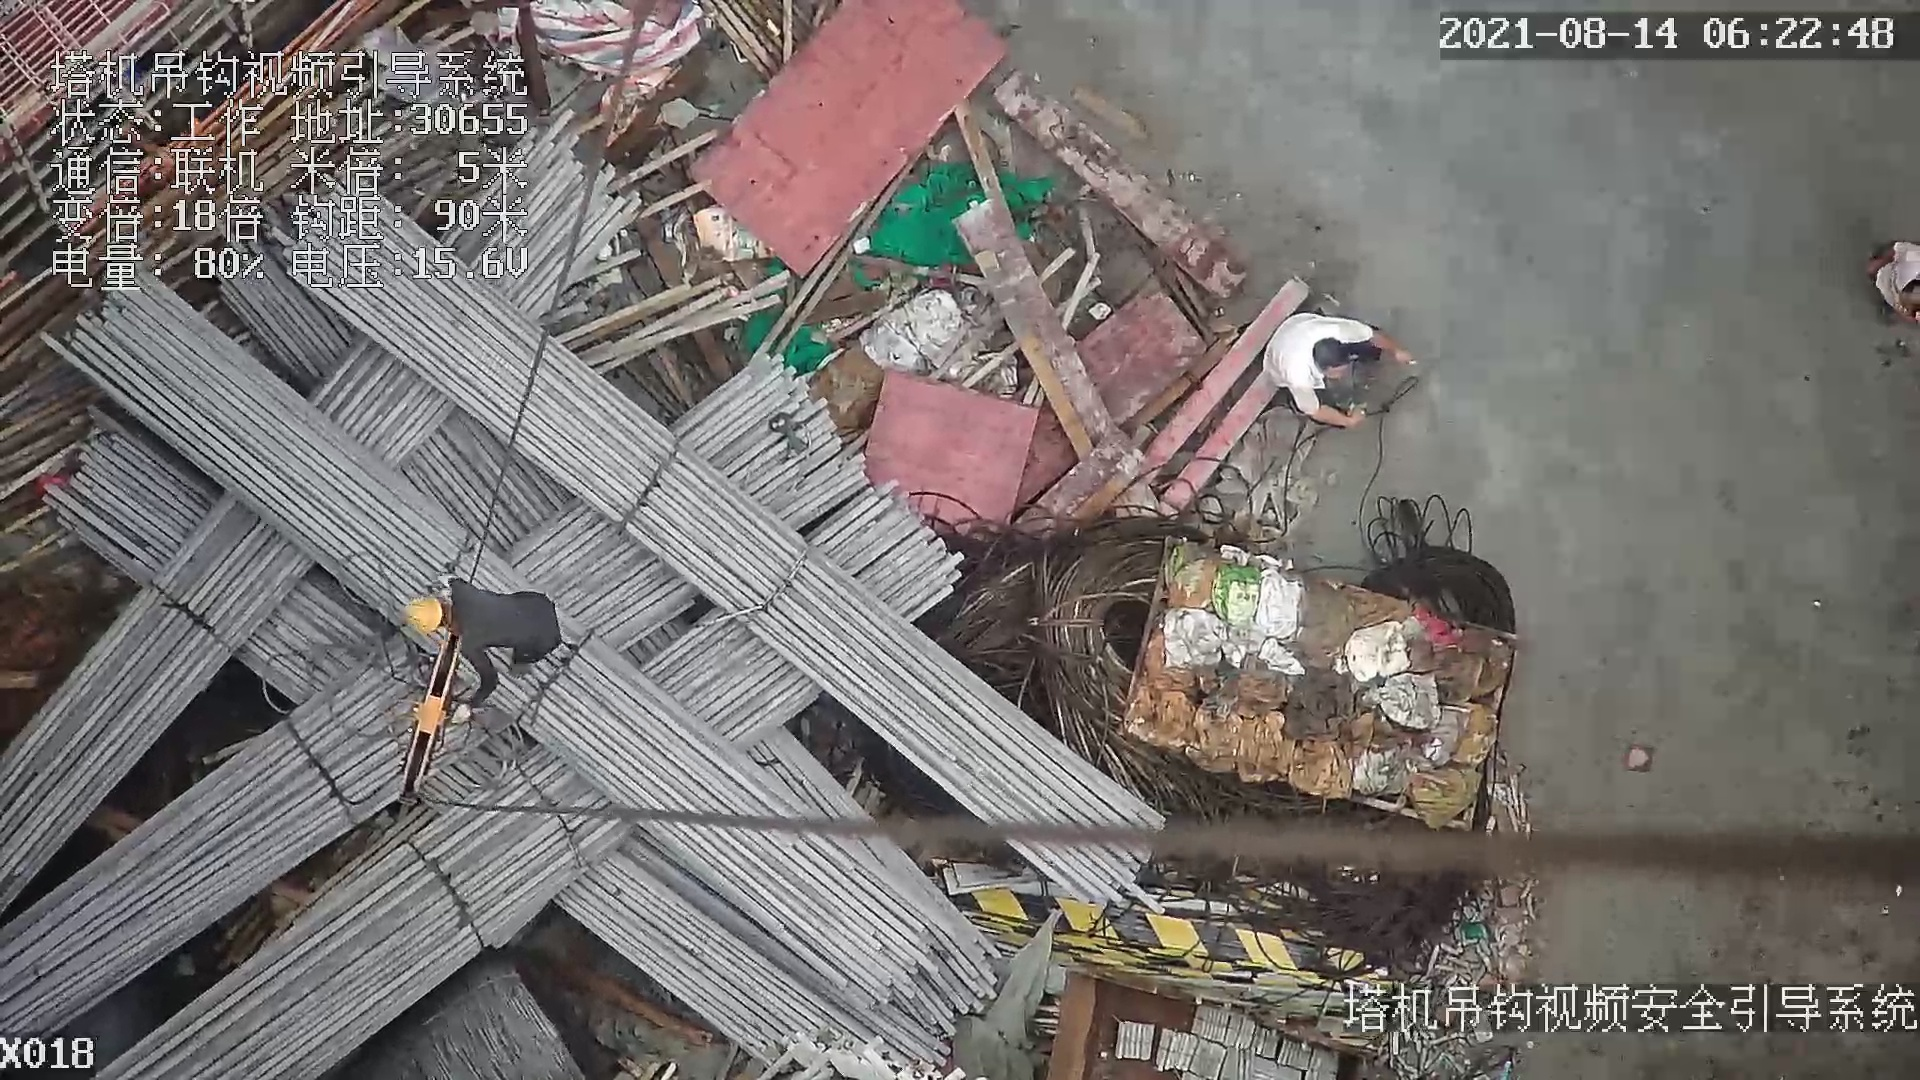board: (686, 2, 1021, 286)
helmet: (406, 594, 447, 632)
hook: (391, 606, 470, 813)
person: (406, 580, 564, 721), (1268, 309, 1417, 435), (1863, 220, 1915, 343)
